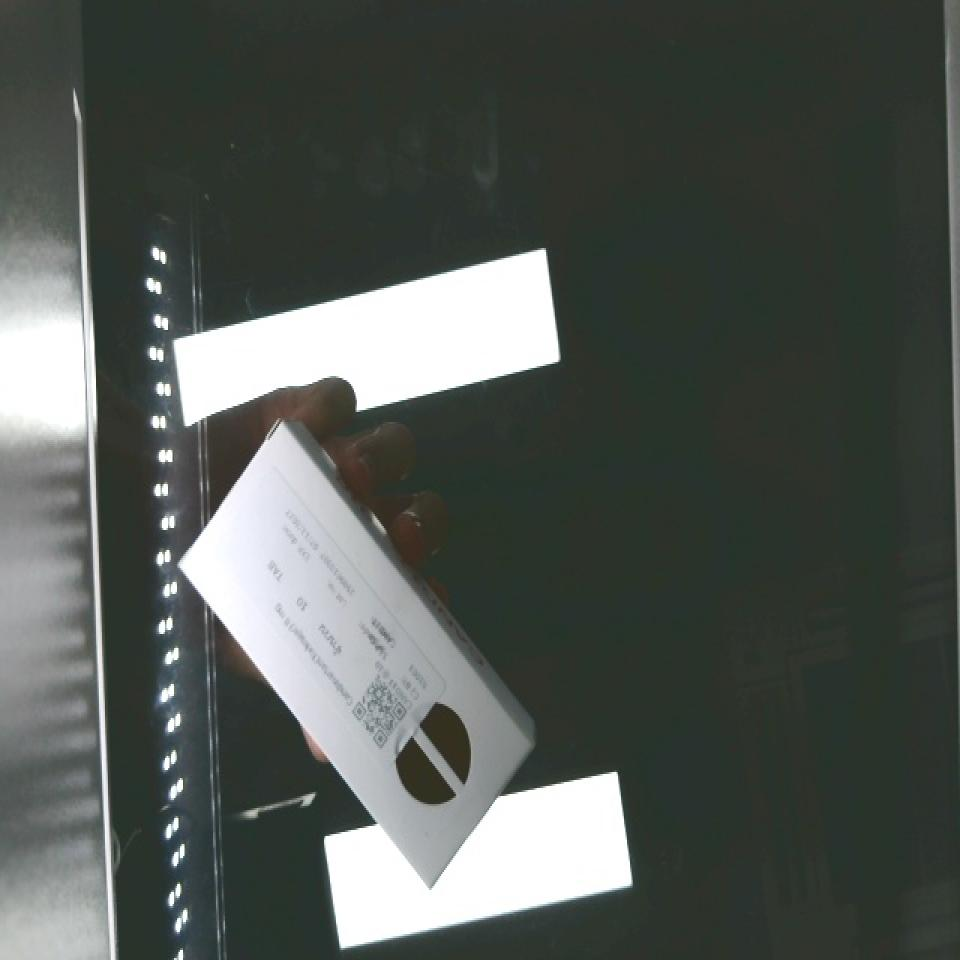medicine_box: (150, 423, 566, 888)
qr_code: (328, 652, 439, 764)
